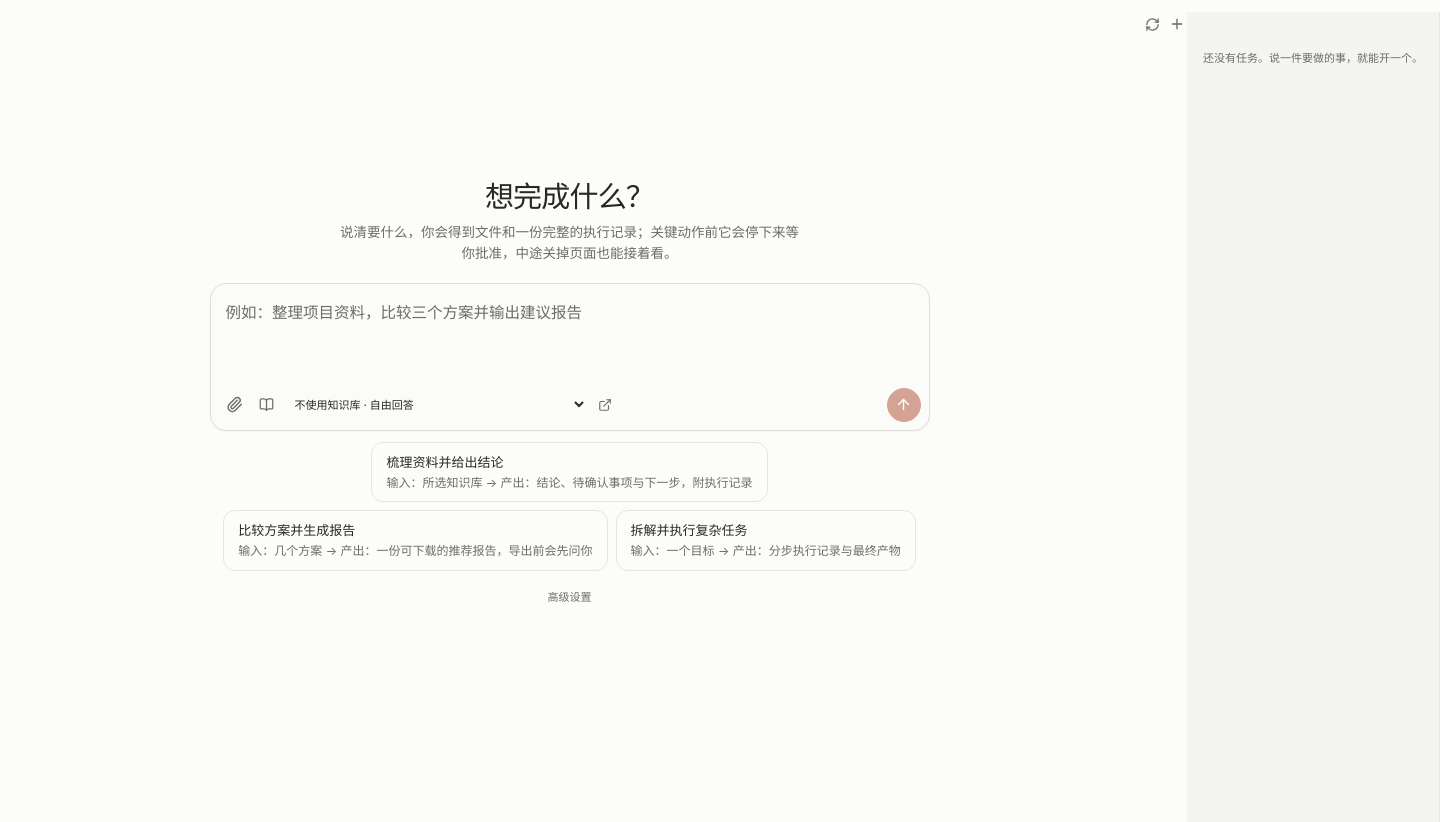
Scenario: WorkPage task submission › says a deployment does not delegate instead of showing its empty ceilings
The width and height of the screenshot is (1440, 822).
Click the heading "高级设置": (570,597) [548,590,592,604]
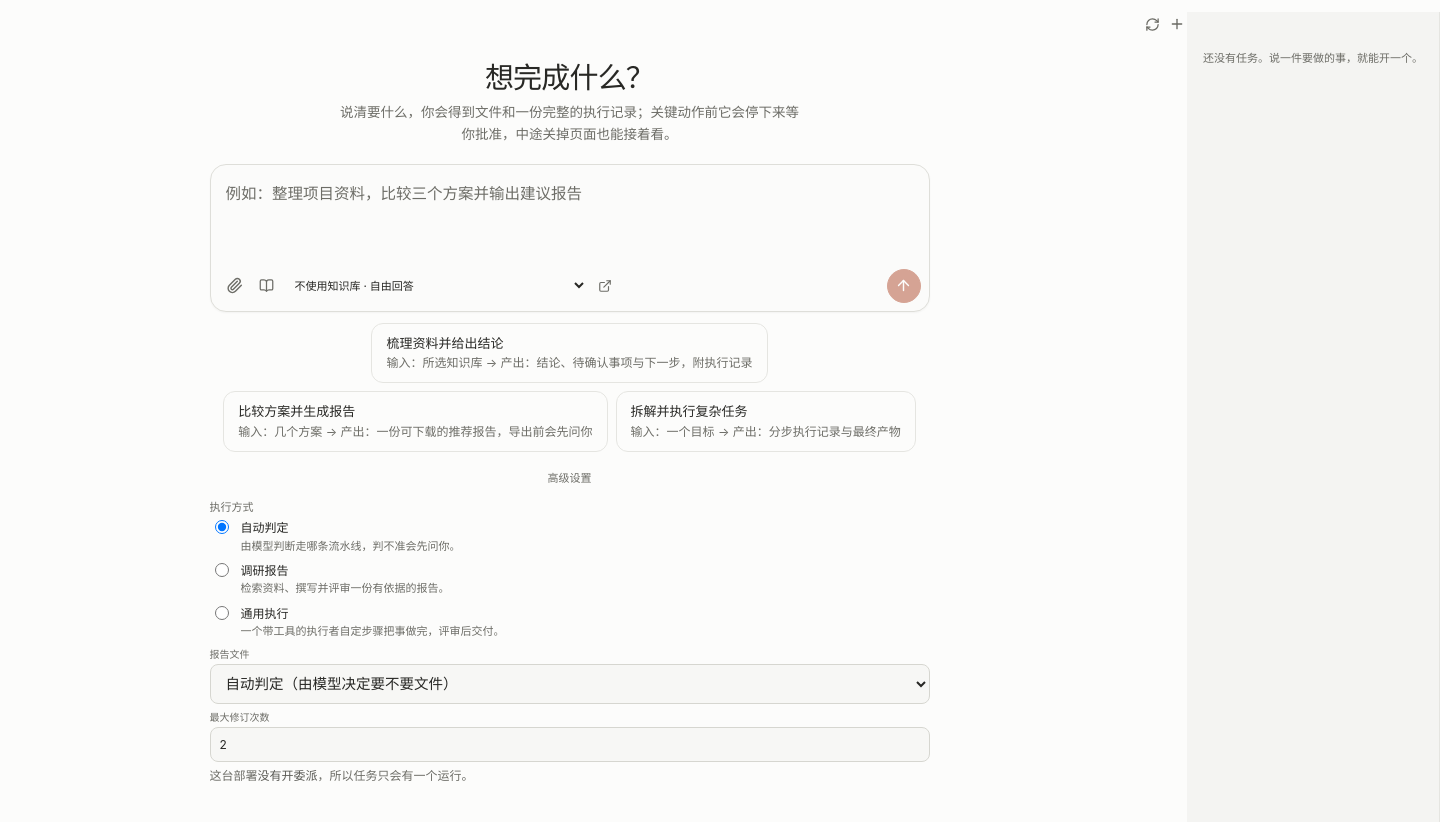
Now the text "没有开委派" is shown, box [258,768,318,783]
